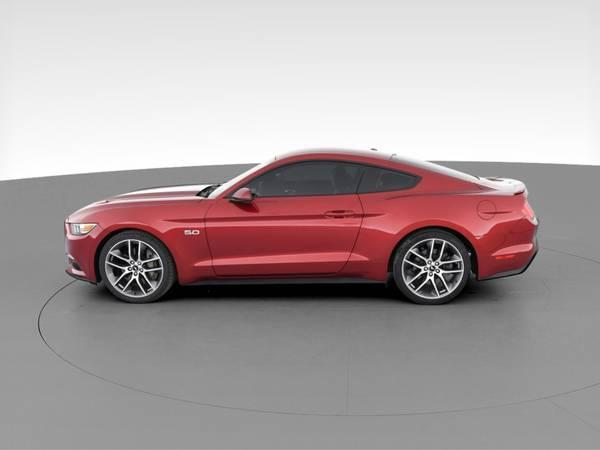Front_Bumper: (65, 223, 104, 284)
Front_Fender: (67, 201, 216, 280)
Front_Left_Door: (340, 167, 534, 283), (205, 198, 363, 278)
Front_Left_Window: (218, 162, 365, 201)
Hood: (70, 179, 221, 219)
Left_Headlight: (64, 223, 98, 238)
Rear_Bumper: (469, 227, 537, 278)
Roof: (216, 148, 495, 199)
Wheel: (97, 230, 175, 304), (390, 233, 469, 305)
